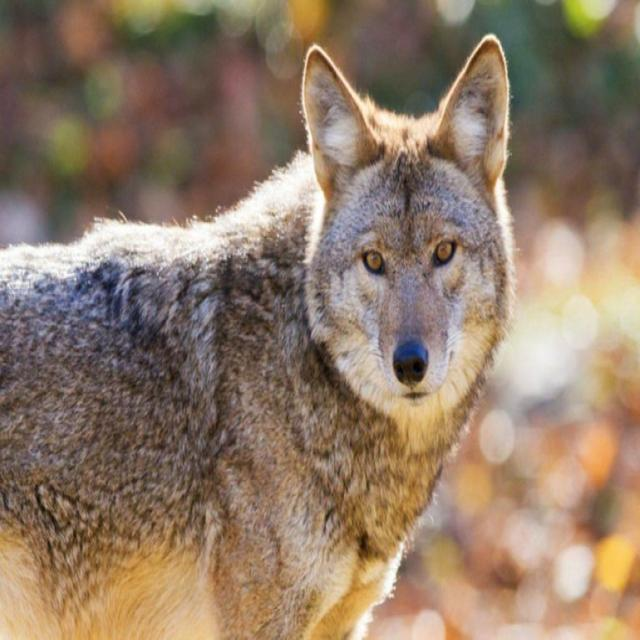coyote: (1, 35, 515, 639)
